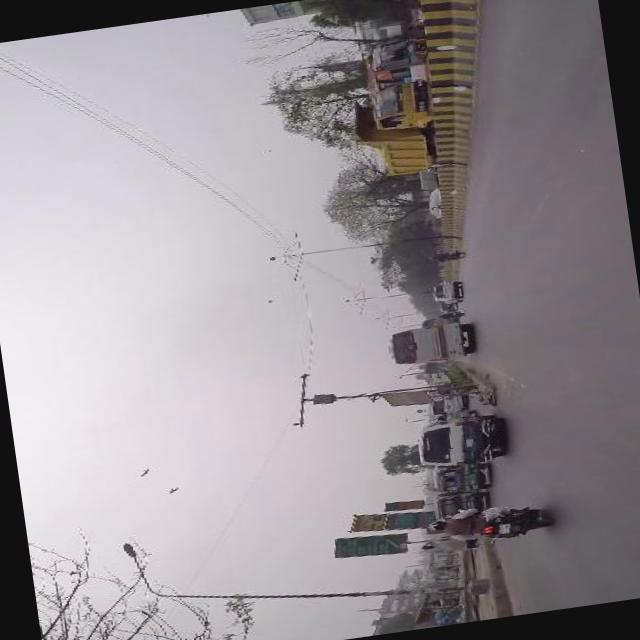bus: (385, 321, 476, 370), (361, 38, 430, 101)
car: (430, 281, 463, 308), (426, 188, 448, 220), (436, 302, 457, 314)
motorcycle: (422, 496, 554, 551), (430, 460, 490, 497), (431, 487, 491, 521), (426, 250, 464, 264), (434, 309, 465, 321)
truck: (346, 78, 440, 182), (412, 410, 512, 471), (428, 394, 466, 416)
